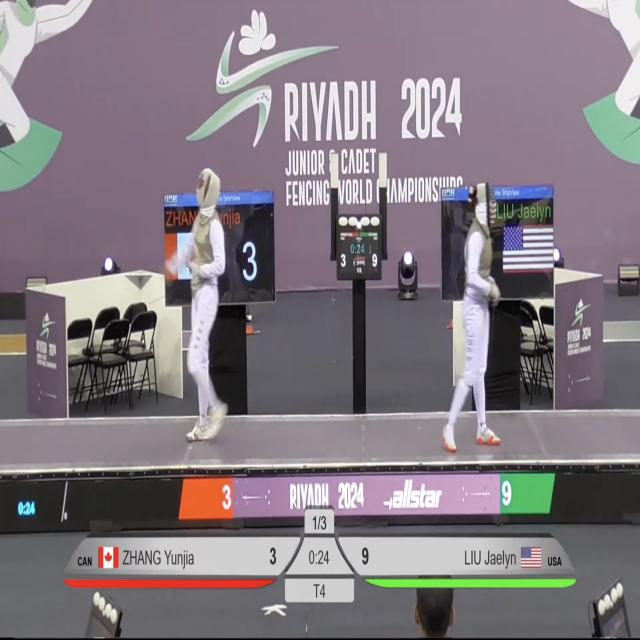fencer: (170, 159, 232, 446), (446, 174, 505, 453)
overlayLeft: (65, 535, 250, 574)
overlayRight: (385, 538, 578, 574)
scoreLeft: (257, 537, 301, 575)
scoreRight: (330, 536, 382, 576)
